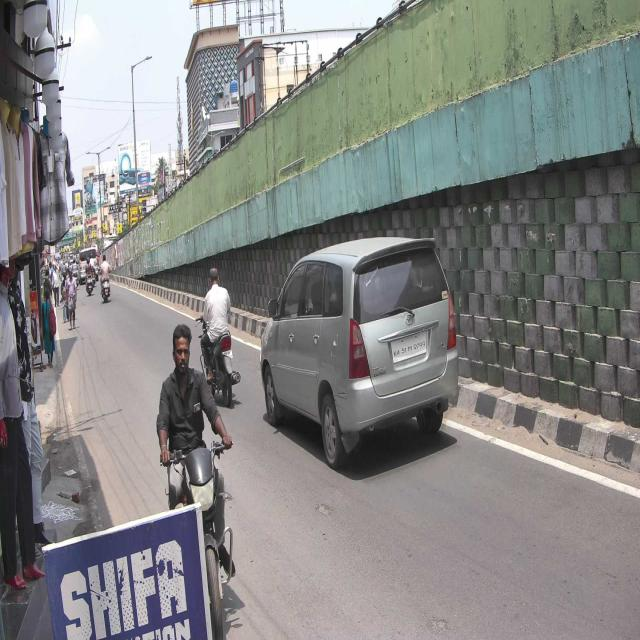single_rider: (151, 319, 234, 640)
